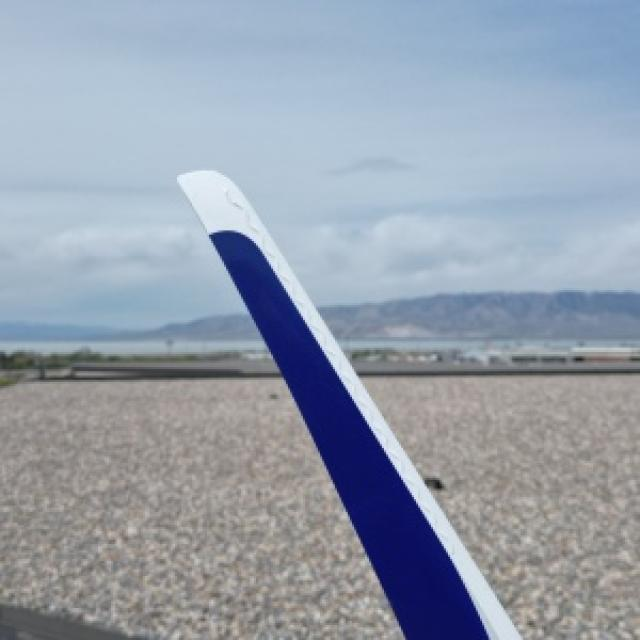healthy: (179, 173, 518, 638)
